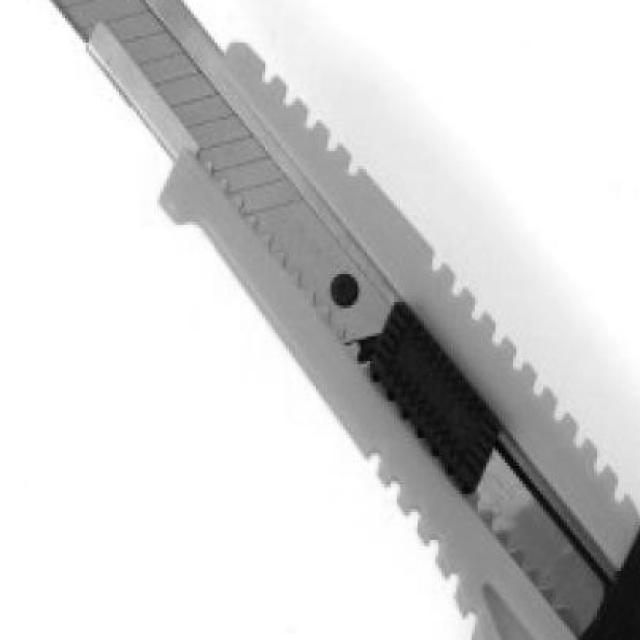estilete: (50, 0, 640, 640)
